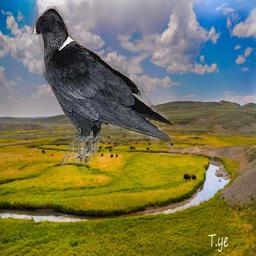Crow: (30, 6, 176, 168)
